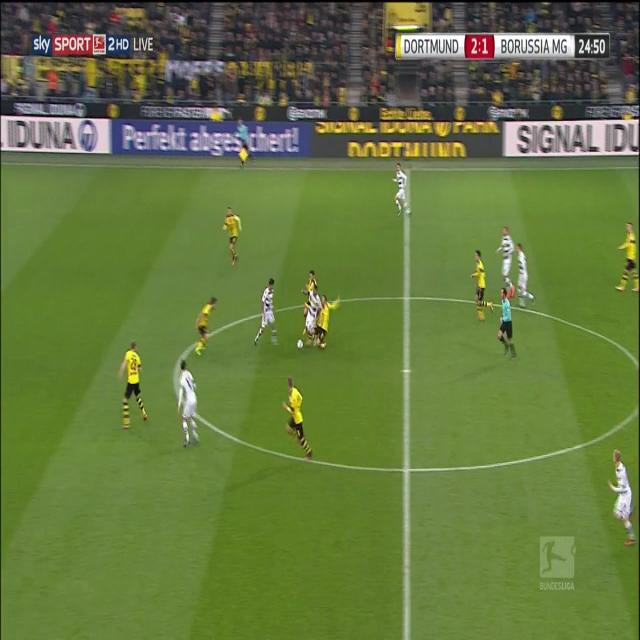Player: (606, 448, 640, 548), (117, 341, 150, 433), (280, 376, 314, 464), (175, 359, 203, 452), (252, 276, 281, 353), (614, 220, 639, 296), (470, 247, 494, 326), (314, 293, 342, 354), (494, 225, 517, 297), (220, 204, 245, 268), (514, 242, 536, 311), (195, 295, 219, 358), (390, 162, 412, 218), (302, 286, 320, 340), (302, 266, 315, 317)
Referee: (496, 286, 519, 365), (234, 116, 256, 172), (296, 336, 304, 354)
